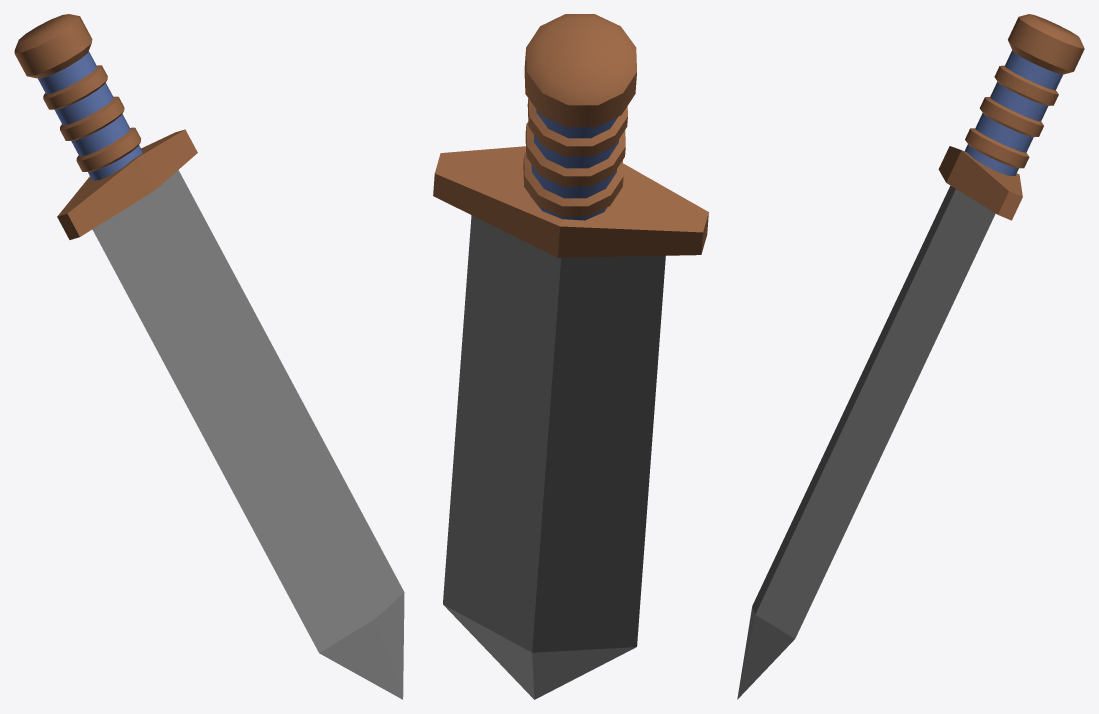
The model's file is Sword.fbx.
3 views of the same model, side by side, from view 1: azimuth 30°, elevation 25°; view 2: azimuth 150°, elevation 25°; view 3: azimuth 270°, elevation 25° (orthographic). The views are drawn at different scales.
Visible parts, largest first — view 1: Sword; view 2: Sword; view 3: Sword.
Part boxes in pixels (x1=…): Sword: x1=14, y1=14, x2=404, y2=699; Sword: x1=433, y1=14, x2=708, y2=699; Sword: x1=737, y1=14, x2=1084, y2=699.
Bounding box in the file's own units: 21.22 × 47.68 × 25.27.
